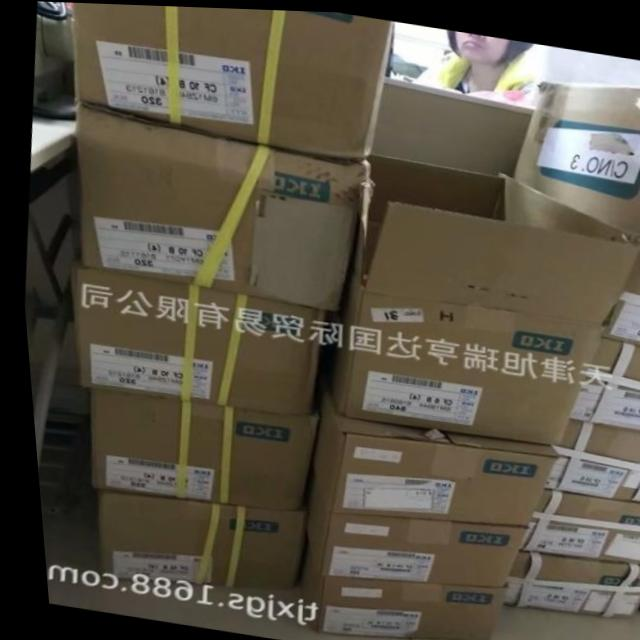box: (318, 151, 640, 440), (74, 102, 369, 307), (71, 2, 392, 157), (65, 264, 324, 410), (301, 379, 549, 522), (79, 386, 311, 508), (293, 473, 518, 583), (510, 77, 640, 238), (292, 539, 497, 638), (88, 489, 294, 587), (368, 73, 531, 174), (492, 546, 640, 614), (509, 484, 640, 560), (536, 414, 640, 499), (560, 332, 640, 427), (595, 248, 640, 342), (628, 582, 640, 608)
